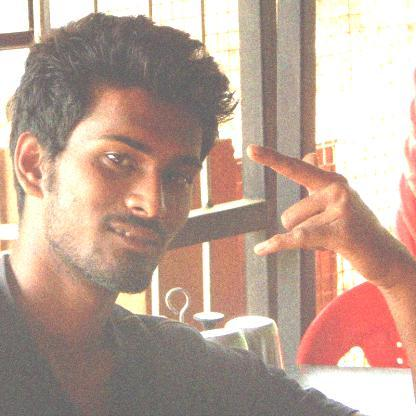without_mask: (22, 53, 195, 273)
